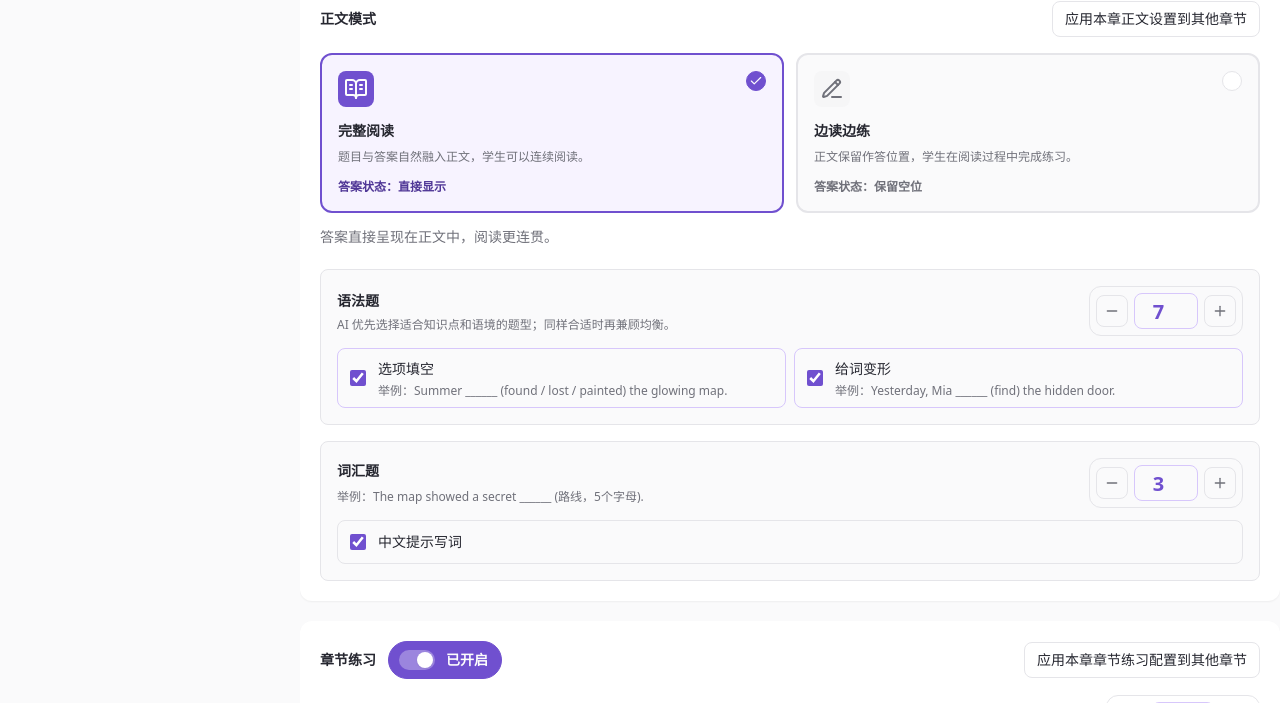
Test: CourseTeachingPlanWorkspace › warns without blocking when reading exercise density exceeds ten
(page scrolled)
Check: the text "正文练习密度过大" is not shown
Click the button named "第 1 章正文语法题总数增加". click: x=1220, y=311
box: [1204, 295, 1236, 327]
(page scrolled)
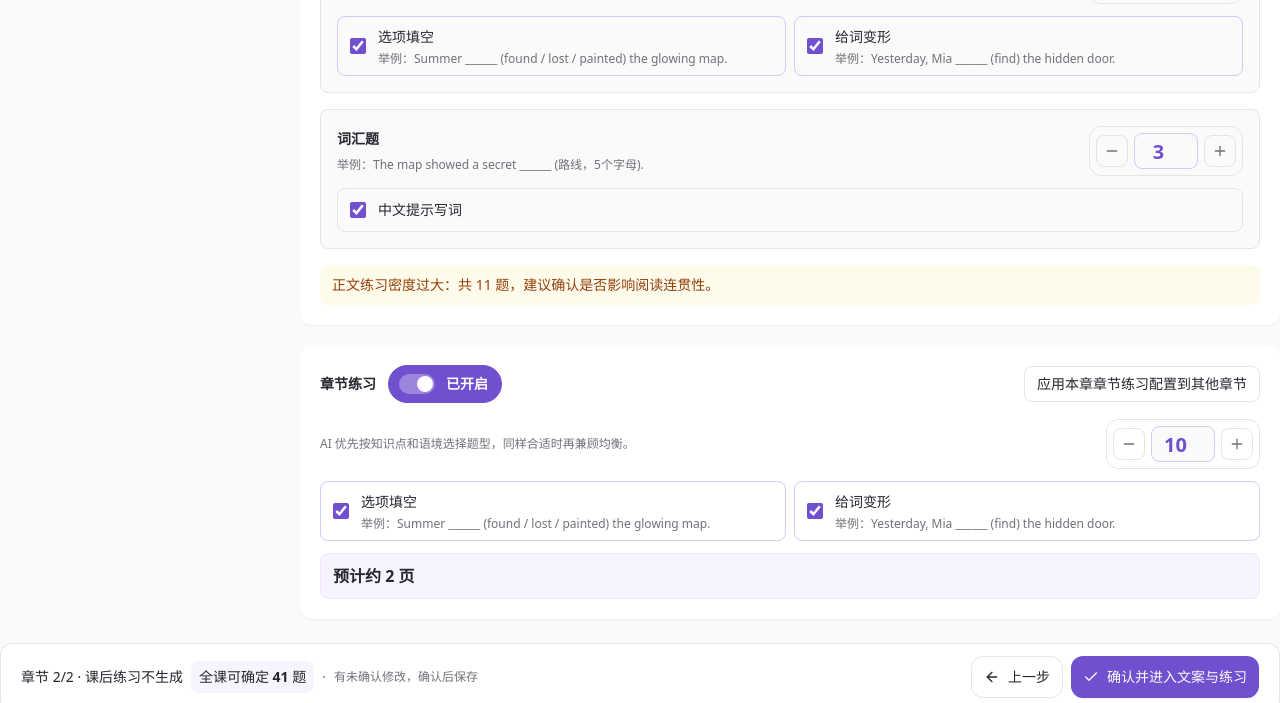
Check: the button "确认并进入文案与练习" is enabled, box [1071, 656, 1259, 698]
Check: the text "正文练习密度过大：共 11 题，建议确认是否影响阅读连贯性。" is shown, box [320, 265, 1260, 305]
